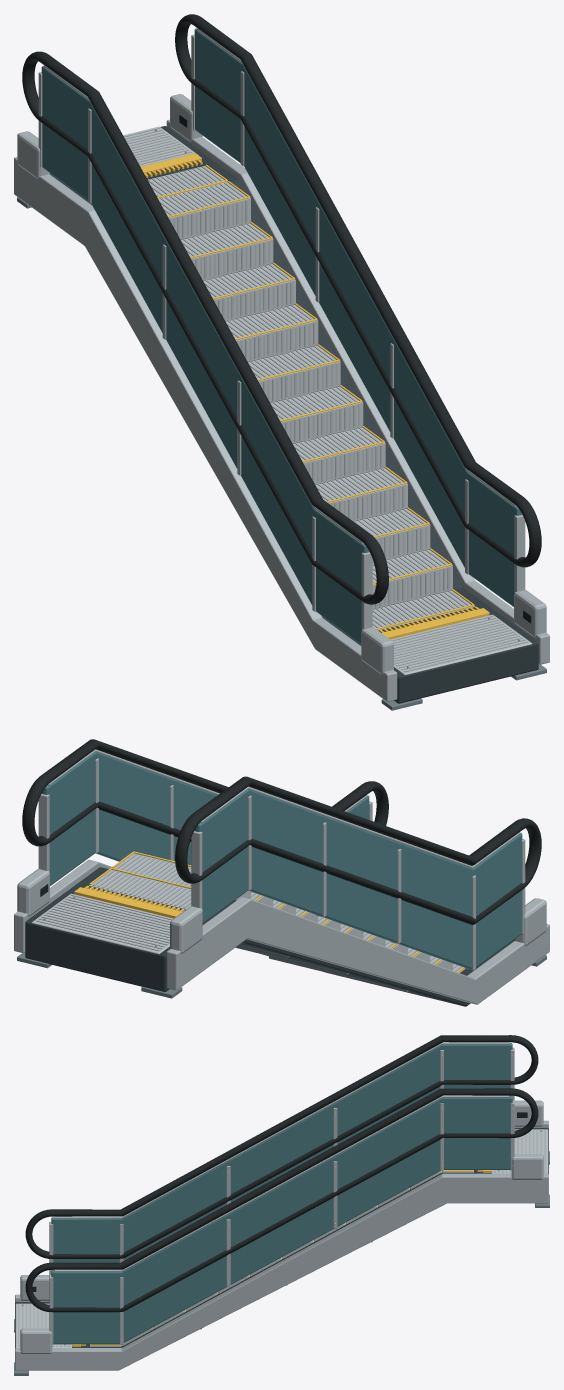
Rendered from city-passenger-escalator.glb.
3 renders of one model, top to bottom at view 1: azimuth 30°, elevation 25°; view 2: azimuth 150°, elevation 25°; view 3: azimuth 270°, elevation 25°, orthographic. The views are drawn at different scales.
Visible parts, largest first — view 1: Assembly | Satin stainless structural metal, Assembly | Opaque muted teal metal infill panels, Assembly | Brushed aluminum treads, Assembly | Charcoal rubber handrails and pads, Assembly | Graphite machinery paint, Assembly | Warm yellow edge markings; view 2: Assembly | Opaque muted teal metal infill panels, Assembly | Satin stainless structural metal, Assembly | Charcoal rubber handrails and pads, Assembly | Graphite machinery paint, Assembly | Brushed aluminum treads, Assembly | Warm yellow edge markings, Assembly | Dark galvanized support steel; view 3: Assembly | Opaque muted teal metal infill panels, Assembly | Satin stainless structural metal, Assembly | Charcoal rubber handrails and pads, Assembly | Brushed aluminum treads, Assembly | Graphite machinery paint.
Boxes of the visible parts, x1,y1,x2,y2 form: Assembly | Satin stainless structural metal: [14, 28, 549, 701]; Assembly | Opaque muted teal metal infill panels: [41, 28, 522, 644]; Assembly | Brushed aluminum treads: [123, 126, 531, 675]; Assembly | Charcoal rubber handrails and pads: [22, 14, 541, 604]; Assembly | Graphite machinery paint: [50, 126, 538, 703]; Assembly | Warm yellow edge markings: [140, 153, 489, 639]; Assembly | Opaque muted teal metal infill panels: [41, 752, 522, 969]; Assembly | Satin stainless structural metal: [14, 749, 549, 1004]; Assembly | Charcoal rubber handrails and pads: [22, 739, 541, 924]; Assembly | Graphite machinery paint: [25, 867, 513, 1006]; Assembly | Brushed aluminum treads: [32, 853, 465, 973]; Assembly | Warm yellow edge markings: [74, 851, 464, 972]; Assembly | Dark galvanized support steel: [17, 944, 546, 998]; Assembly | Opaque muted teal metal infill panels: [51, 1043, 512, 1344]; Assembly | Satin stainless structural metal: [15, 1042, 548, 1370]; Assembly | Charcoal rubber handrails and pads: [25, 1035, 538, 1312]; Assembly | Brushed aluminum treads: [15, 1129, 548, 1347]; Assembly | Graphite machinery paint: [15, 1128, 548, 1348].
Size of the model in its own units: 1.28 by 2.96 by 5.02.
